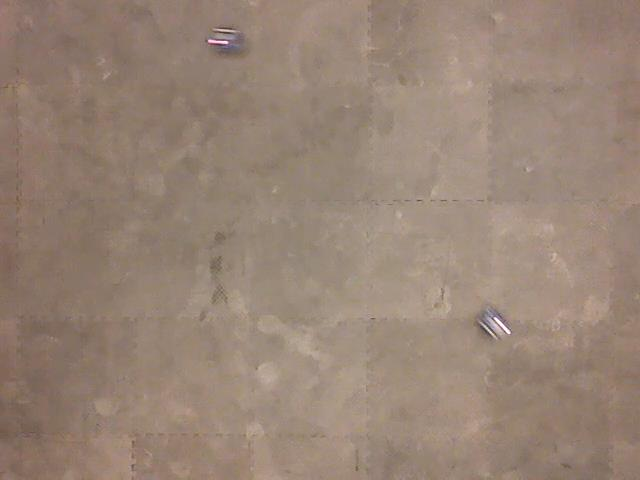Agent: (472, 303, 513, 344), (203, 23, 246, 56)
